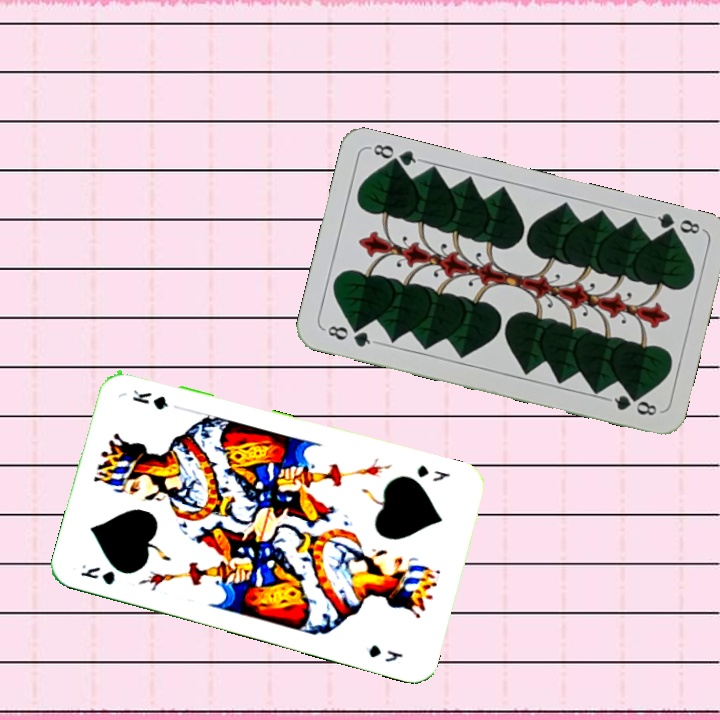G8: (647, 209, 705, 240), (320, 321, 378, 350)
GK: (76, 560, 118, 588), (413, 461, 453, 484)
